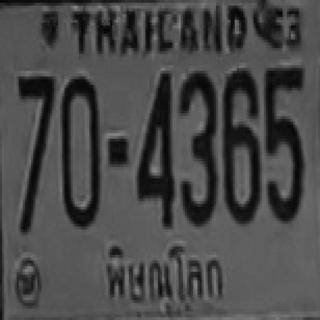N00: (60, 74, 98, 226)
N03: (179, 68, 216, 224)
N04: (135, 69, 172, 225)
N05: (264, 65, 301, 221)
N06: (222, 68, 258, 221)
N07: (16, 74, 54, 226), (16, 74, 54, 212), (16, 75, 54, 194)
P46: (98, 236, 230, 315)
